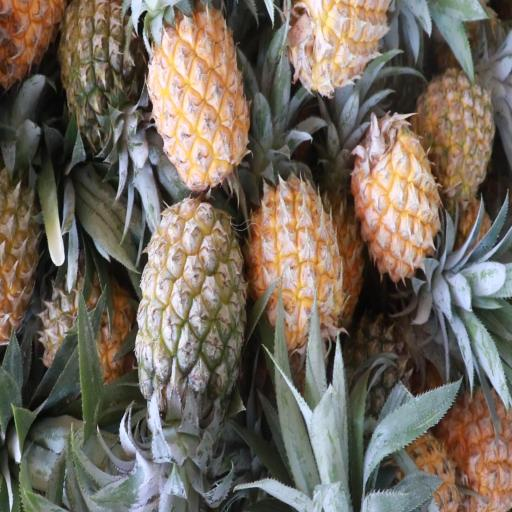------------------------------: (136, 197, 241, 416), (44, 262, 135, 397), (422, 71, 500, 205)
Pineapple - v8 v1: (148, 6, 248, 190), (356, 110, 442, 280), (255, 180, 342, 348), (287, 0, 398, 91), (0, 164, 54, 345)
